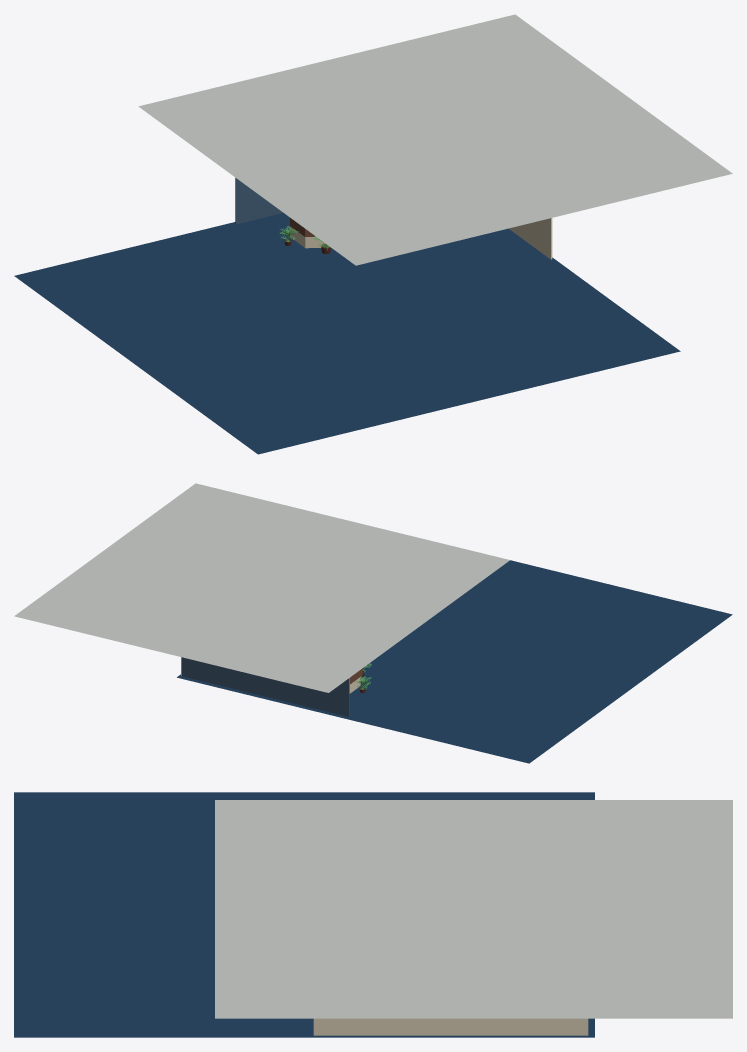
File: scene_frontdesk (1).fbx
3 renders of one model, top to bottom at view 1: azimuth 30°, elevation 25°; view 2: azimuth 150°, elevation 25°; view 3: azimuth 270°, elevation 25°, orthographic. The views are drawn at different scales.
Parts seen in each view (by area): view 1: Plane.001, Plane, Cube, Cube.001; view 2: Plane, Plane.001, Cube; view 3: Plane, Plane.001, Cube.001.
Part boxes in pixels (x1=…): Plane.001: x1=14, y1=213, x2=680, y2=454; Plane: x1=138, y1=14, x2=732, y2=265; Cube: x1=235, y1=178, x2=283, y2=224; Cube.001: x1=508, y1=218, x2=552, y2=259; Plane: x1=14, y1=483, x2=509, y2=692; Plane.001: x1=177, y1=560, x2=732, y2=763; Cube: x1=182, y1=657, x2=349, y2=716; Plane: x1=215, y1=800, x2=732, y2=1018; Plane.001: x1=14, y1=792, x2=594, y2=1037; Cube.001: x1=313, y1=1018, x2=588, y2=1035.
Bounding box in the file's own units: 49.53 × 6.98 × 46.34.
